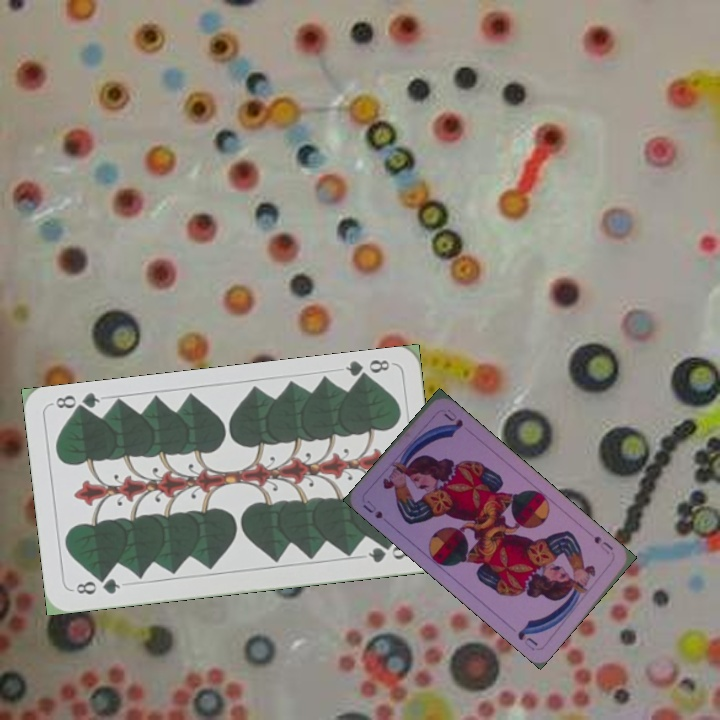G8: (341, 355, 392, 385), (69, 573, 123, 598)
SU: (358, 496, 385, 521), (590, 532, 616, 553)
